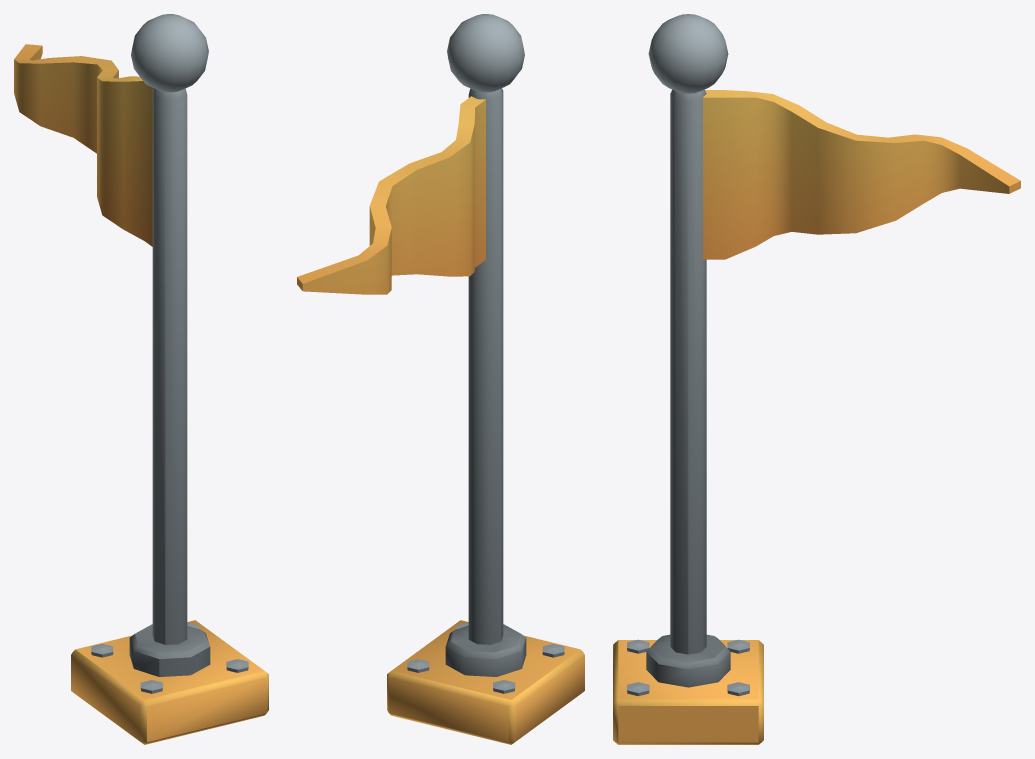
Rendered from flag_B_yellow.glb.
3 views of the same model, side by side, from view 1: azimuth 30°, elevation 25°; view 2: azimuth 150°, elevation 25°; view 3: azimuth 270°, elevation 25° (orthographic).
Visible parts, largest first — view 1: flag_B_yellow; view 2: flag_B_yellow; view 3: flag_B_yellow.
Boxes of the visible parts, <box> form: flag_B_yellow: <box>14,14,268,744</box>; flag_B_yellow: <box>297,14,584,744</box>; flag_B_yellow: <box>613,14,1020,744</box>.
Size of the model in its own units: 0.6 by 3.06 by 1.62.
1 material, 1 textured.
